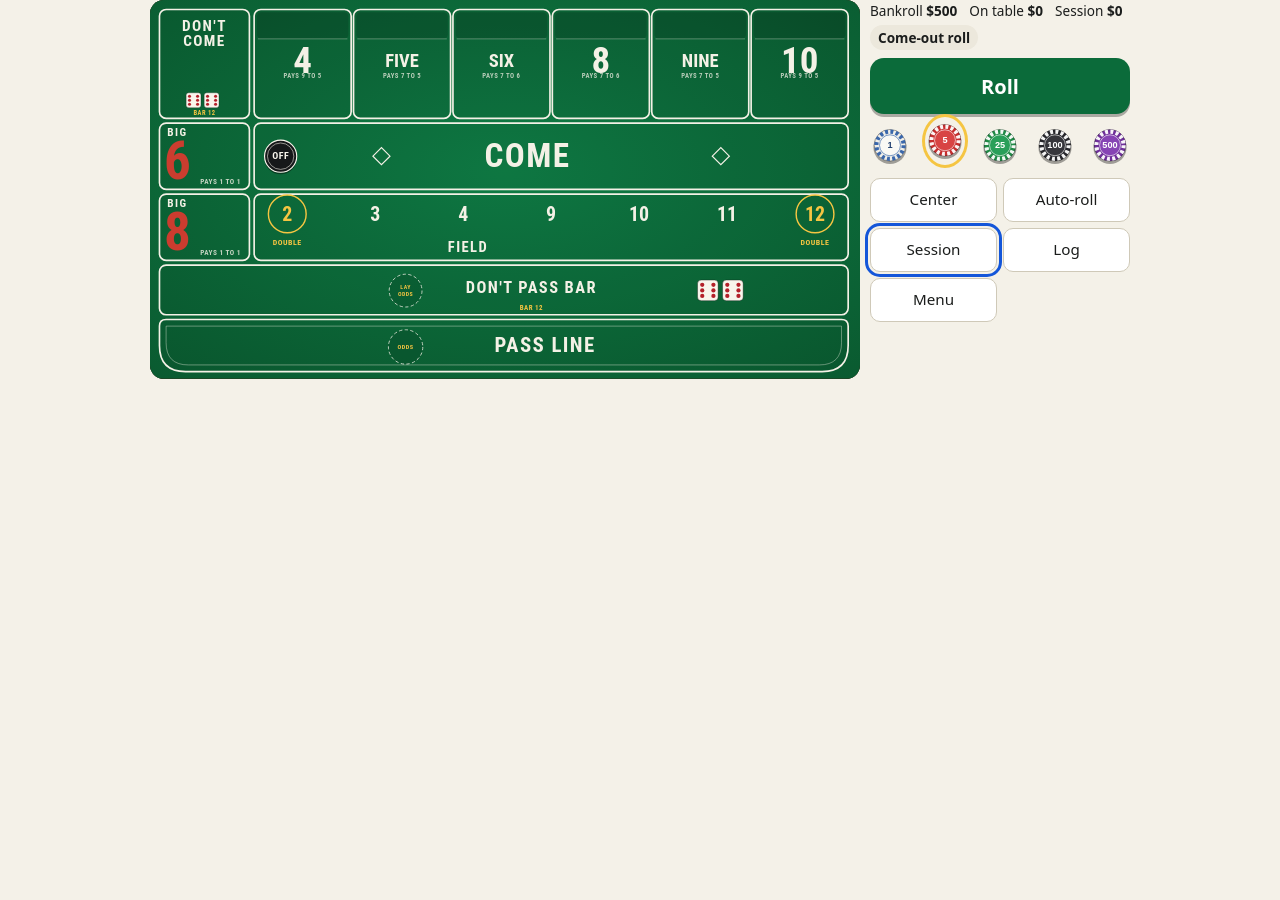
it: sandbox panel sheet (I064) › Escape closes the sheet and hands focus back to the tab that opened it
This screenshot has width=1280, height=900.
Click the button "Session" at (934, 250), box [870,228,997,272]
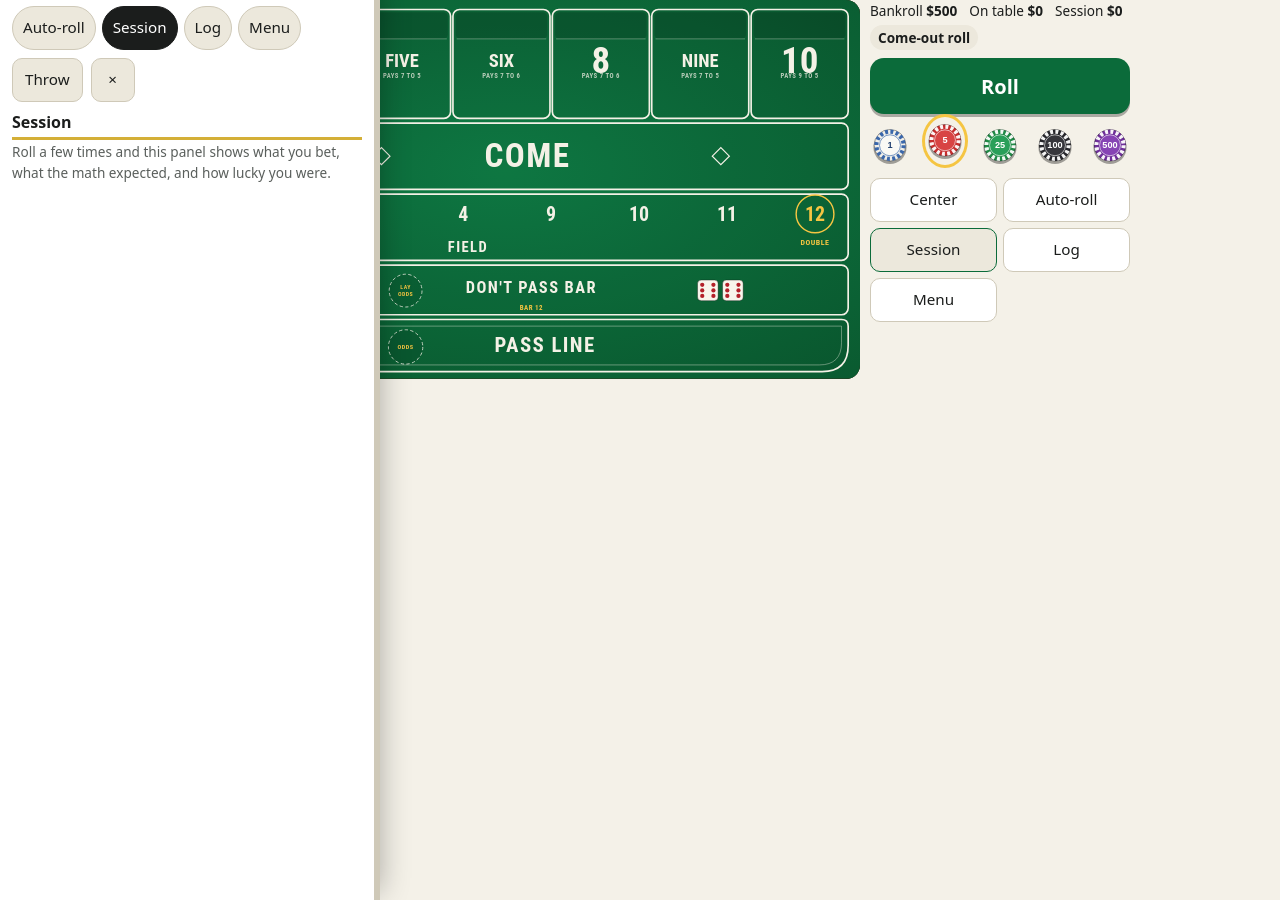
Press Escape in the dialog, box [0,0,380,899]
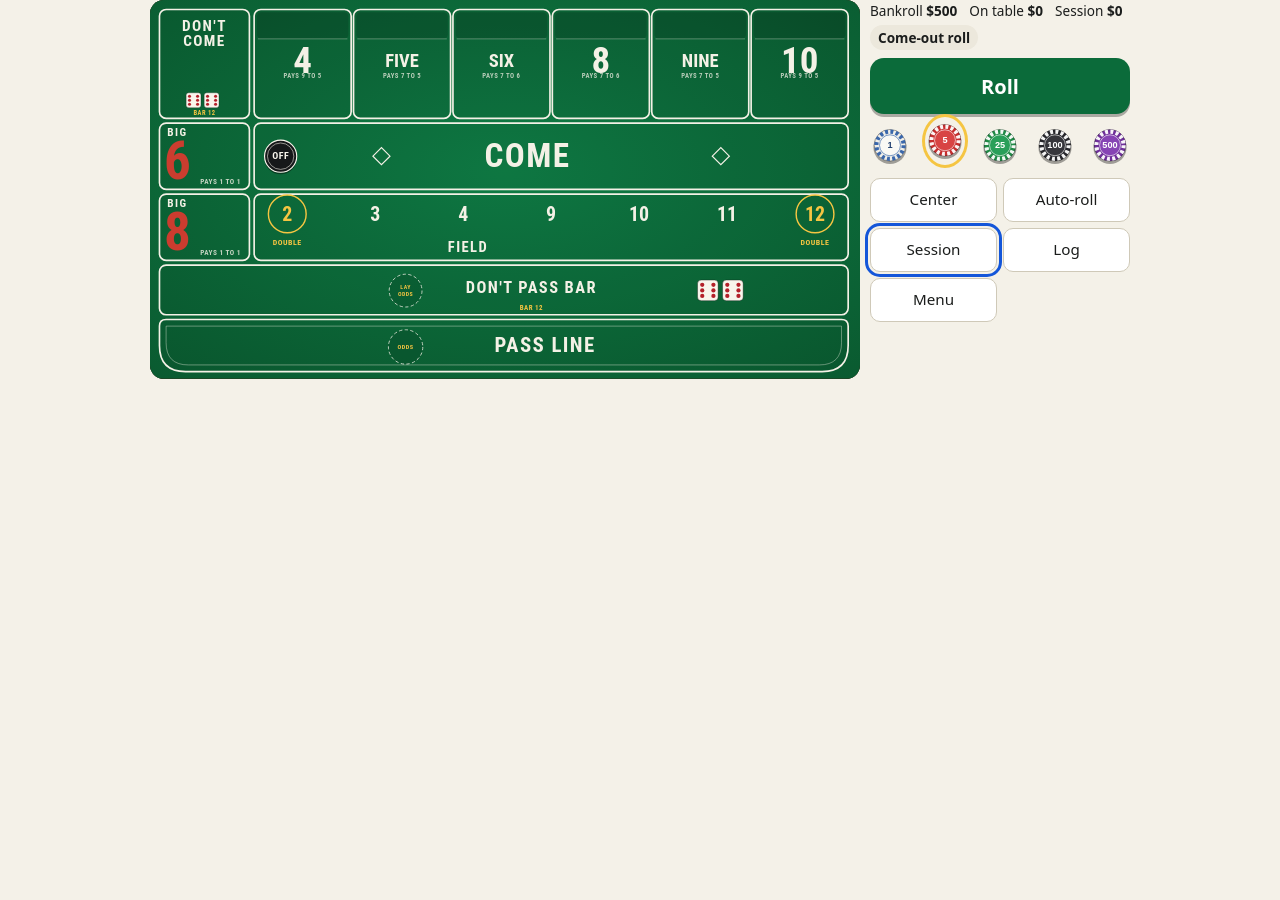
Expected: the dialog is gone
